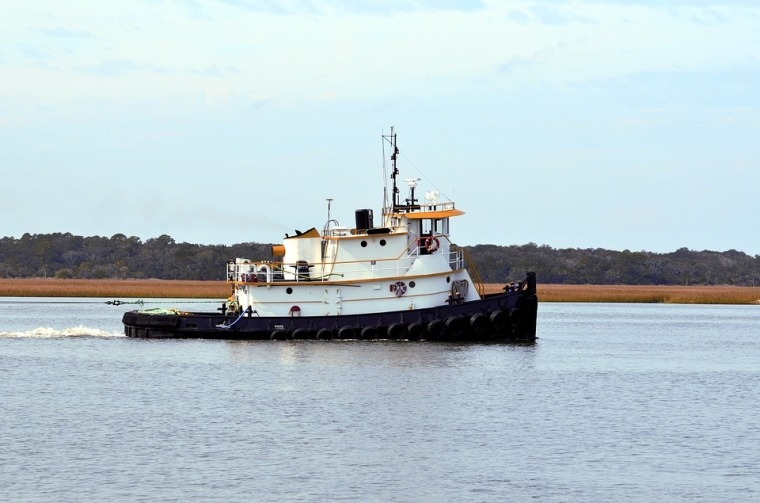otherboat: (115, 138, 552, 343)
